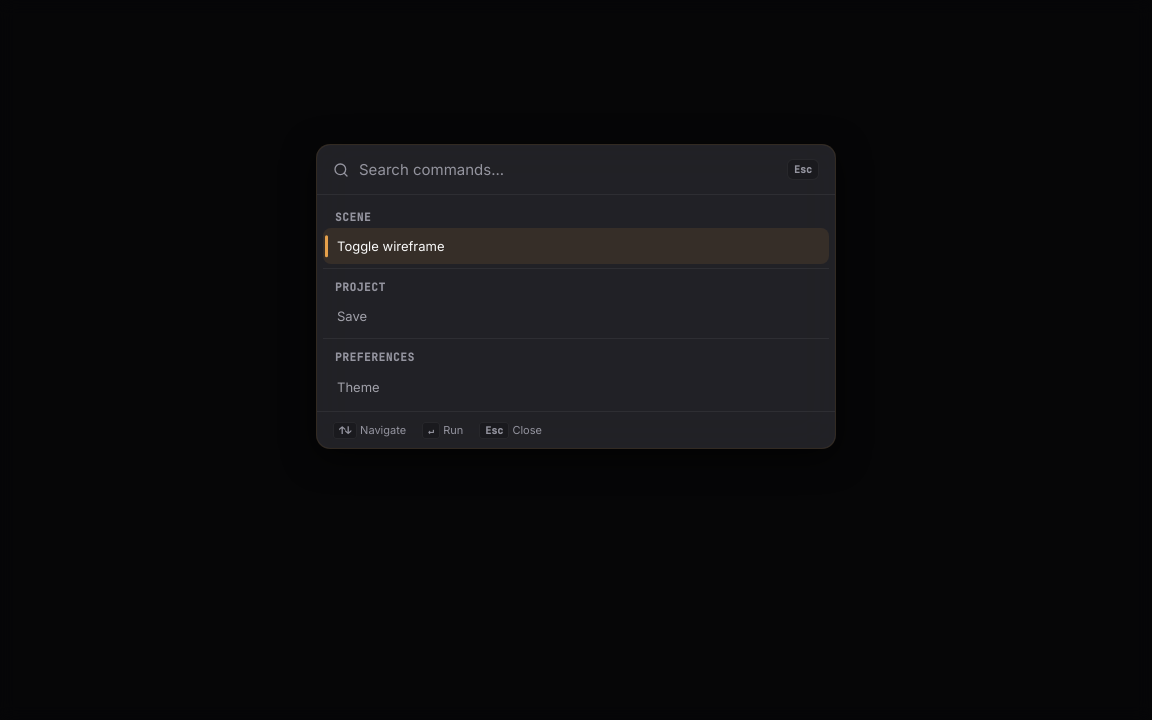
CommandPalette — search input › filters commands based on search query
This screenshot has width=1152, height=720.
Type "wire" into the field with placeholder "Search commands..." at (568,170), box [359,160,777,179]
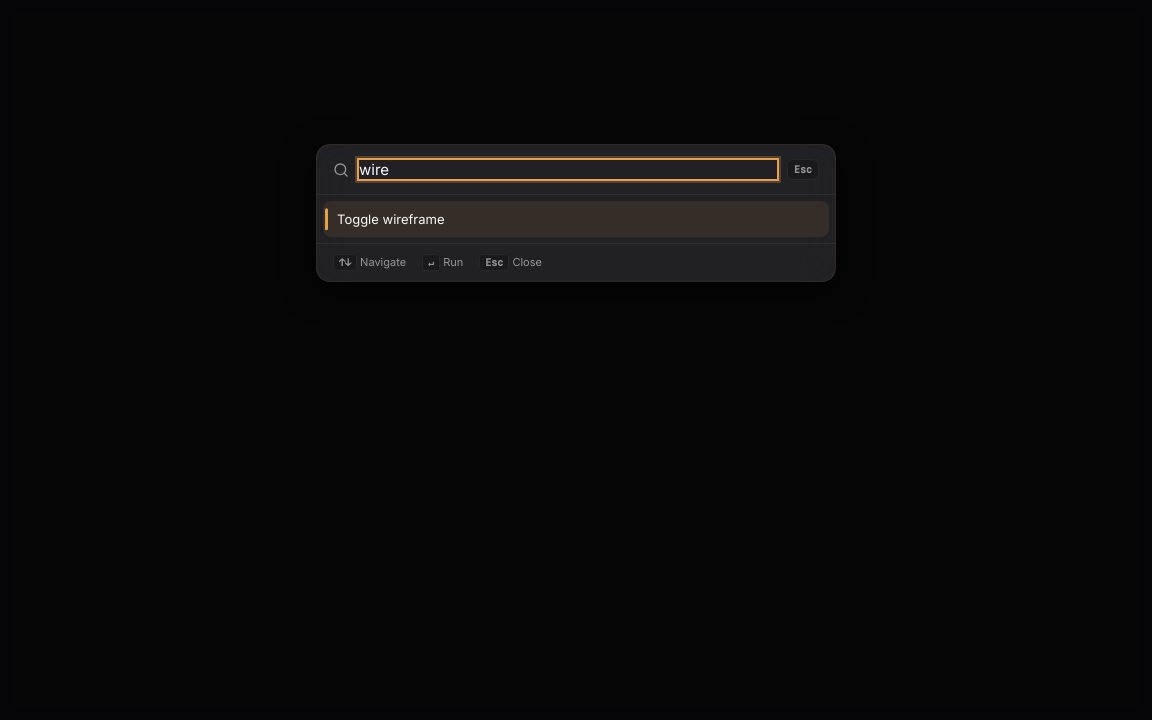
Check: the text "Toggle wireframe" is shown, box [337,211,444,227]
Check: the button "Save" is gone
Check: the button "Theme" is gone
